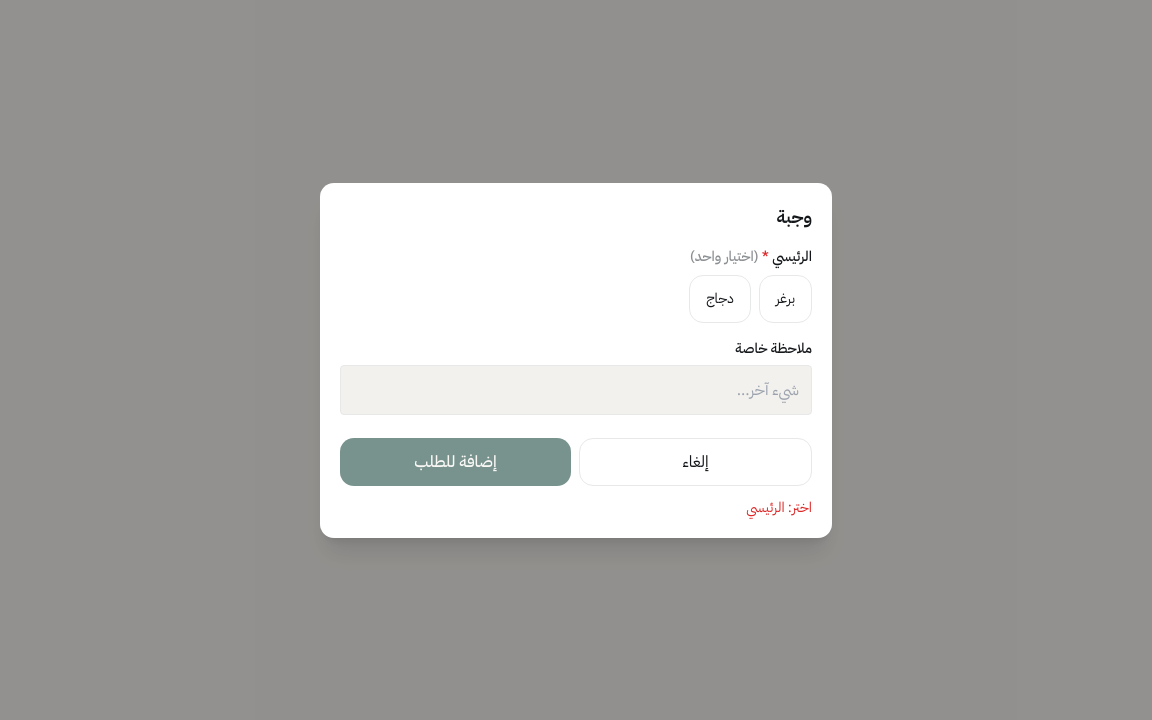
Scenario: a combo item's own groups › open by themselves over the combo when the chosen item must be answered
The image size is (1152, 720).
Step 1. Click the button "برغر" → (785, 298), box [759, 274, 812, 322]
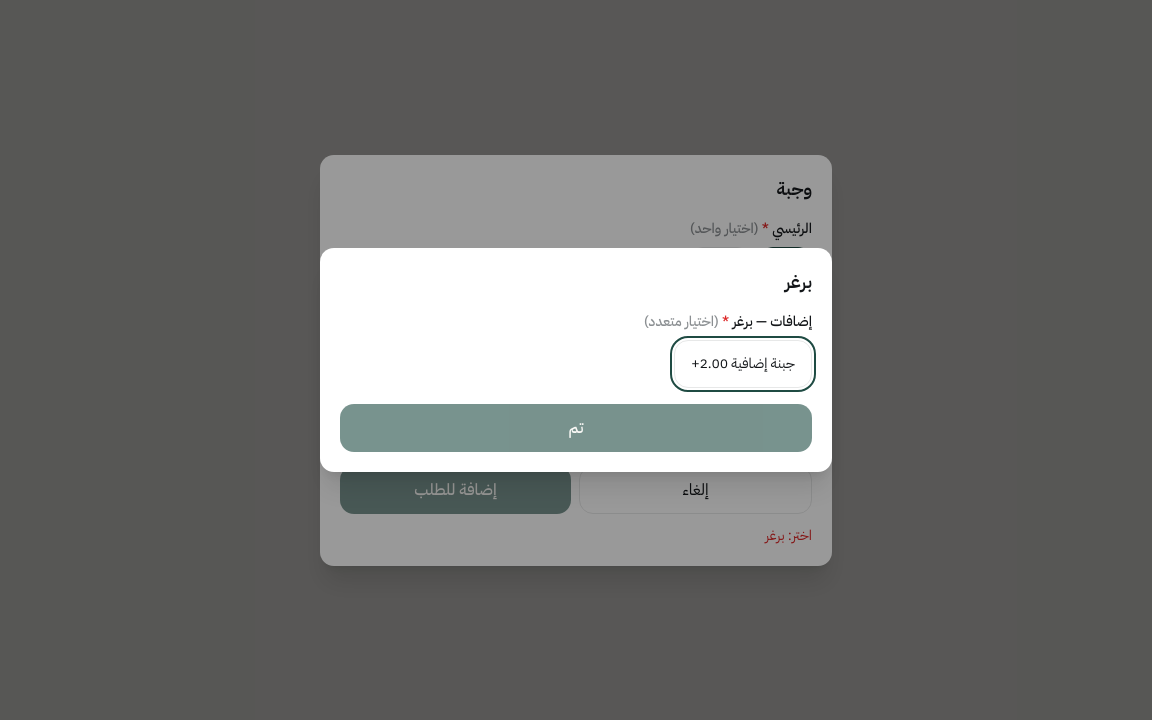
Now the text "جبنة إضافية" is shown, box [674, 340, 812, 388]
